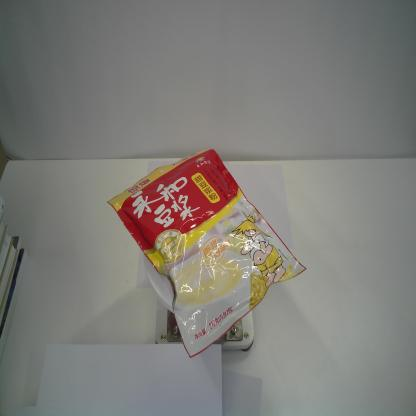Instant Drink: (106, 147, 308, 361)
